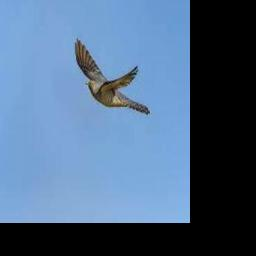Cuckoo: (75, 38, 151, 114)
